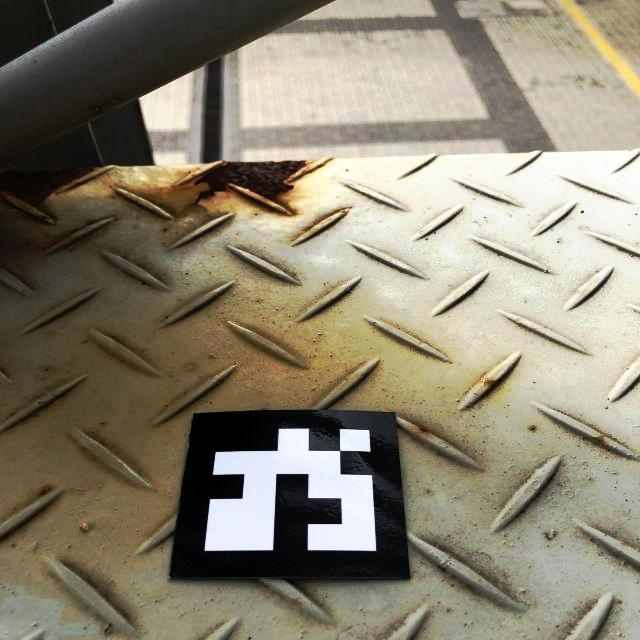Corrosion: (189, 158, 310, 208), (0, 167, 101, 206)
